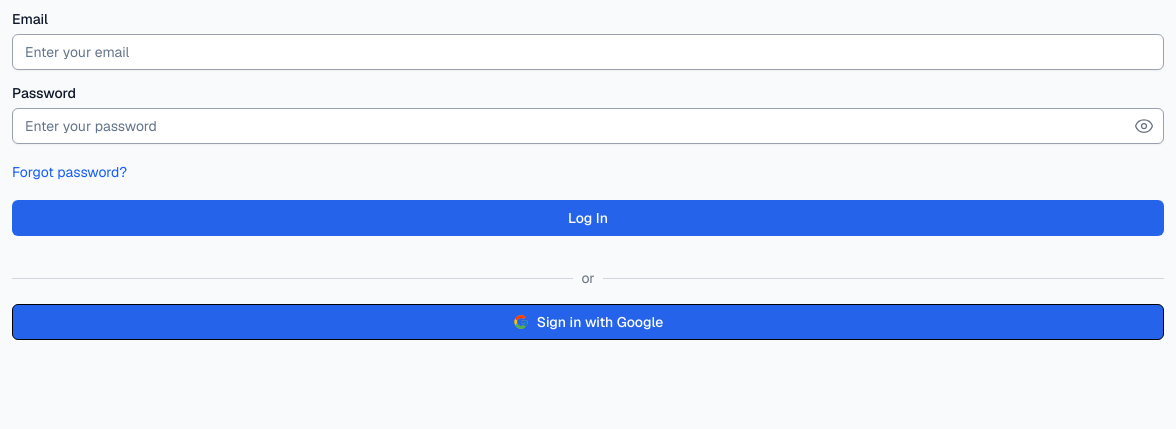
it: LoginForm › shows resend verification link if email is not verified
Step 1. Type "test@example.com" into the field with placeholder "Enter your email" → (588, 52), box [12,34,1164,70]
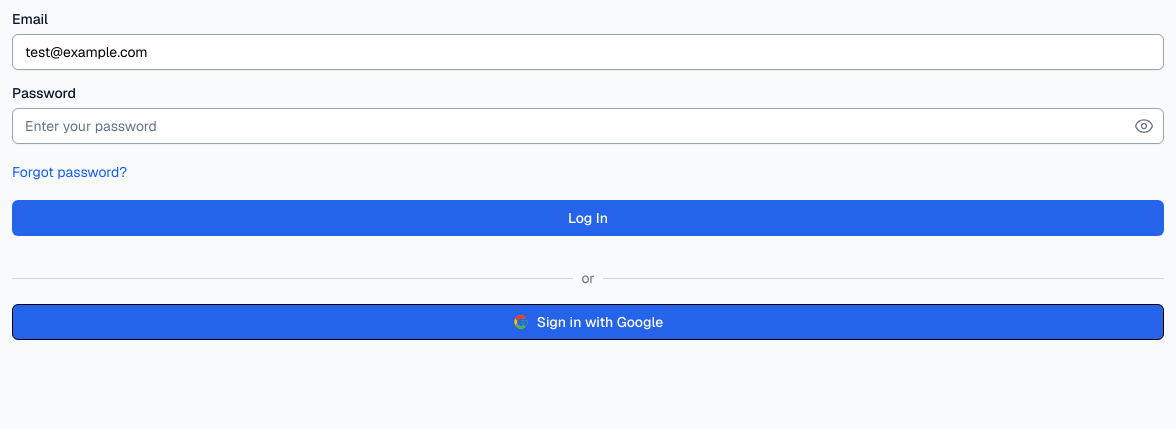
Step 2. Type "password" into the password field with placeholder "Enter your password" → (588, 126), box [12,108,1164,144]
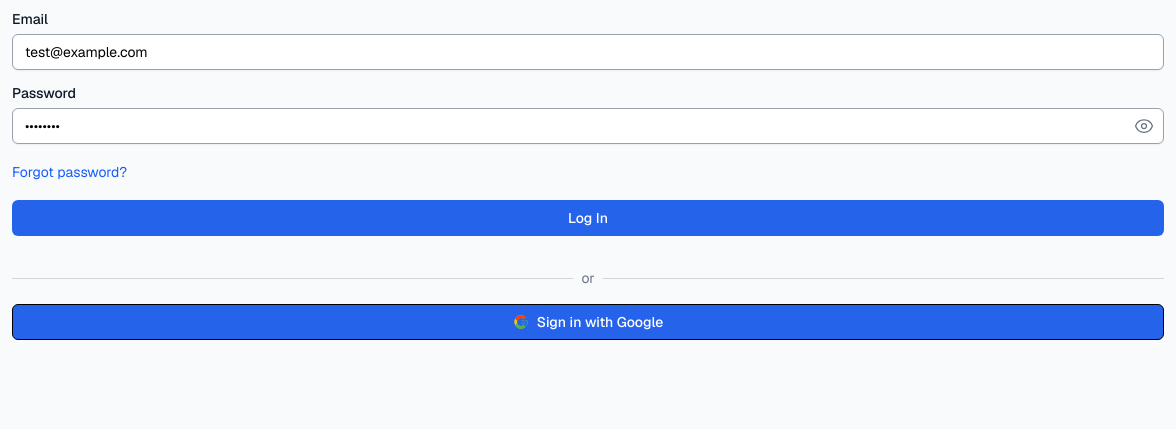
Step 3. Click the button "Log In" → (588, 218), box [12,200,1164,236]
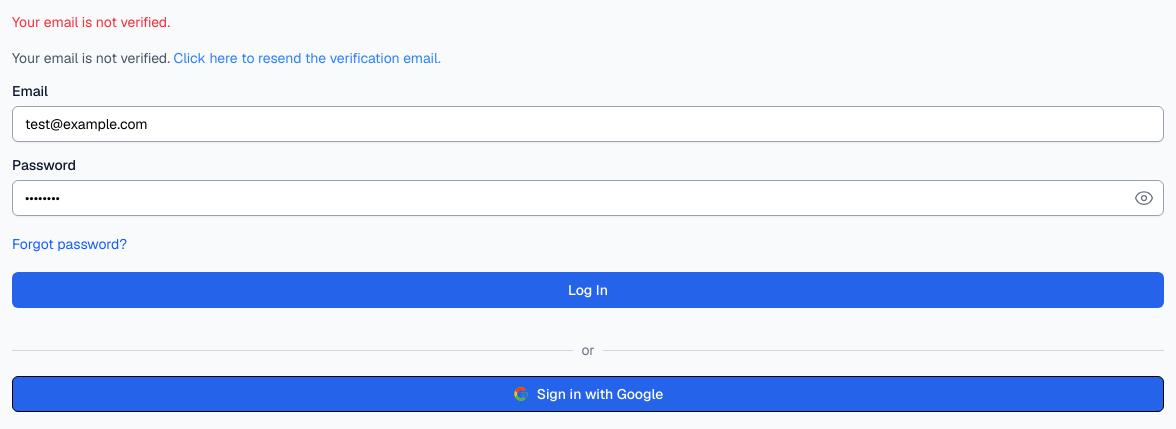
expect the button "Click here to resend the verification email." is shown: met, box [174,48,441,68]
